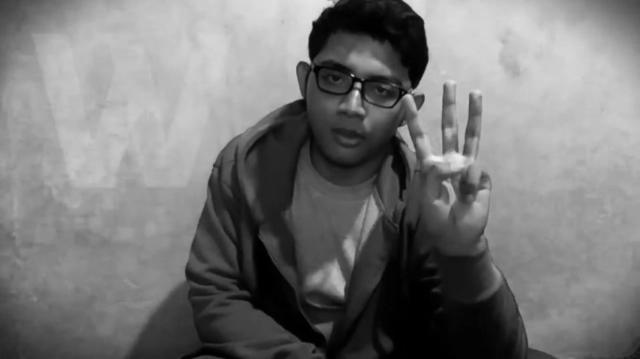W: (400, 77, 496, 251)
